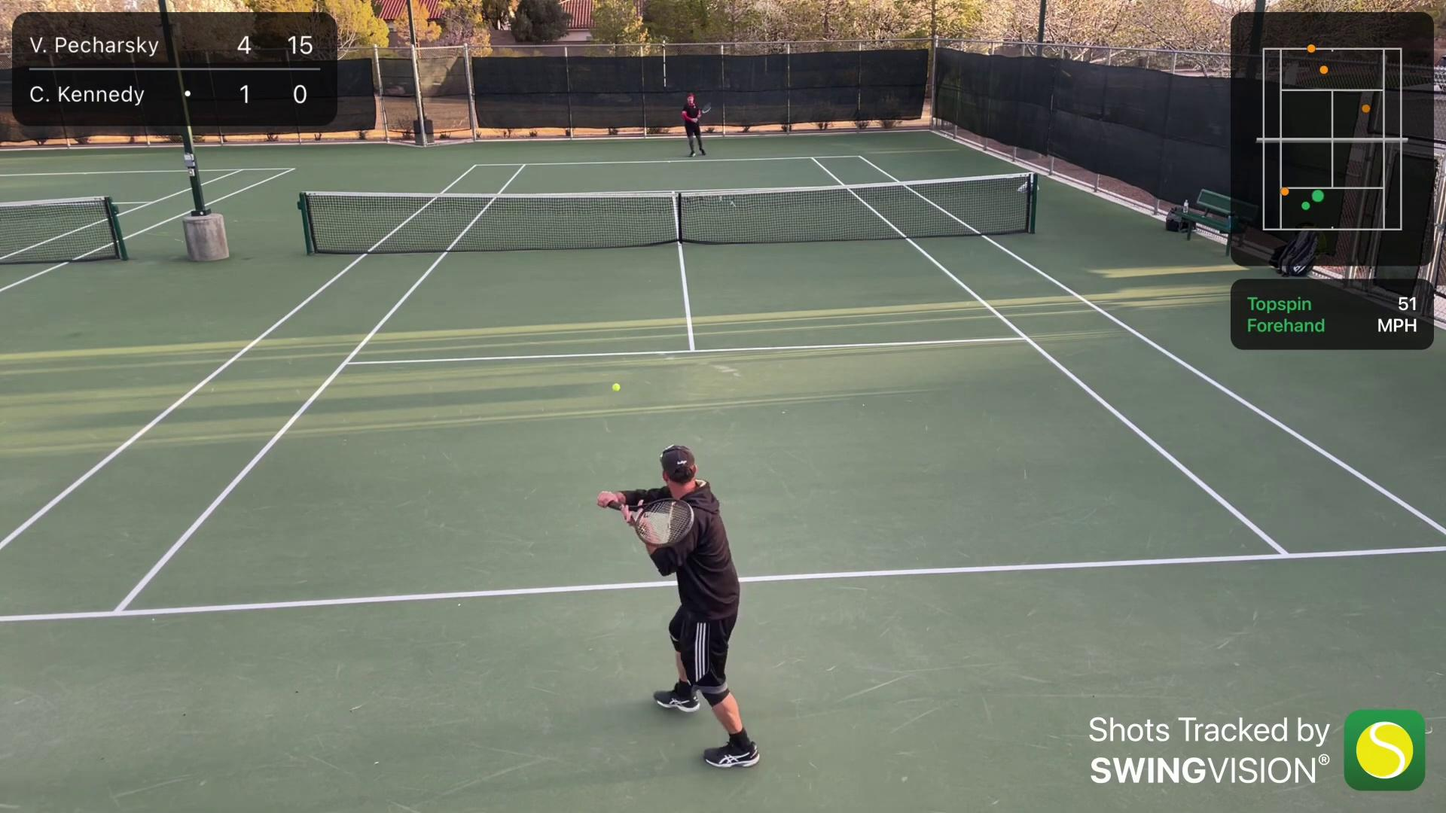ball: (610, 382, 621, 393)
